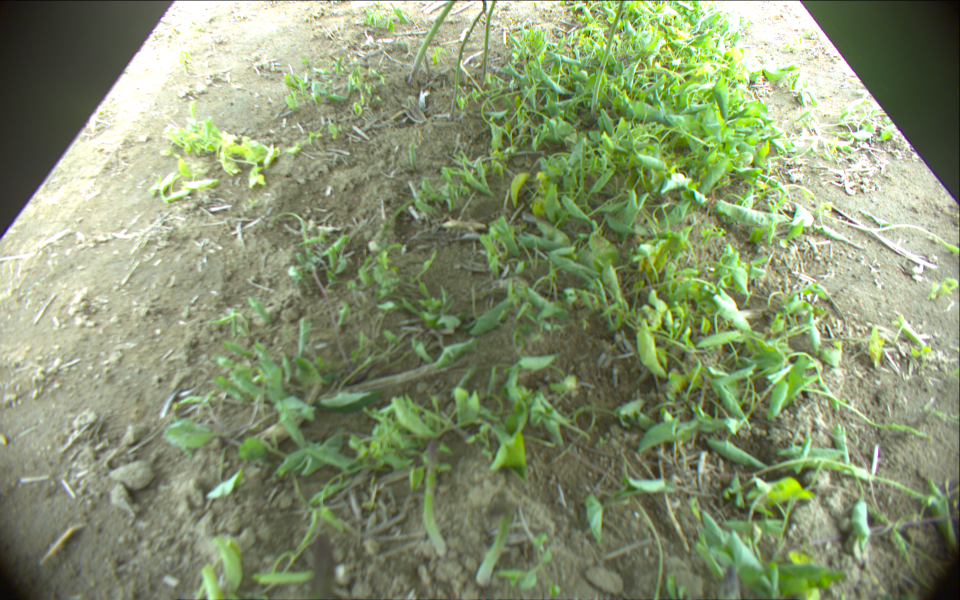aspa: (408, 1, 458, 87), (452, 1, 485, 121), (590, 1, 624, 116), (473, 511, 513, 586), (424, 441, 446, 557), (482, 1, 498, 85)
